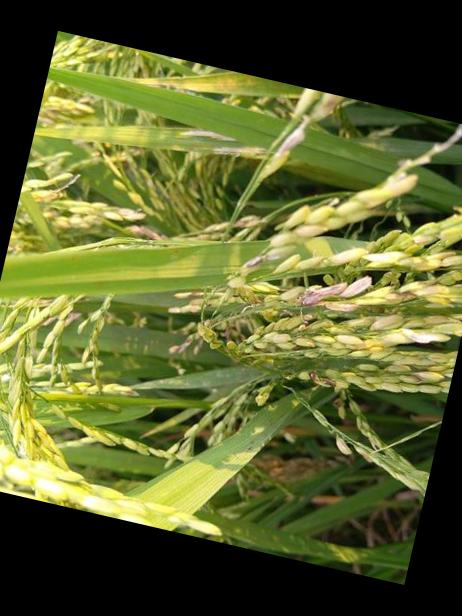Panicle Blight: (299, 274, 376, 304), (275, 114, 310, 155), (28, 189, 66, 207), (168, 332, 197, 355), (243, 251, 282, 268), (315, 92, 344, 114), (370, 313, 402, 331), (319, 298, 359, 312), (305, 372, 336, 389), (115, 206, 147, 220), (351, 444, 372, 464), (333, 435, 351, 456), (385, 291, 417, 299), (192, 338, 204, 358), (246, 293, 263, 305), (403, 375, 421, 383)
